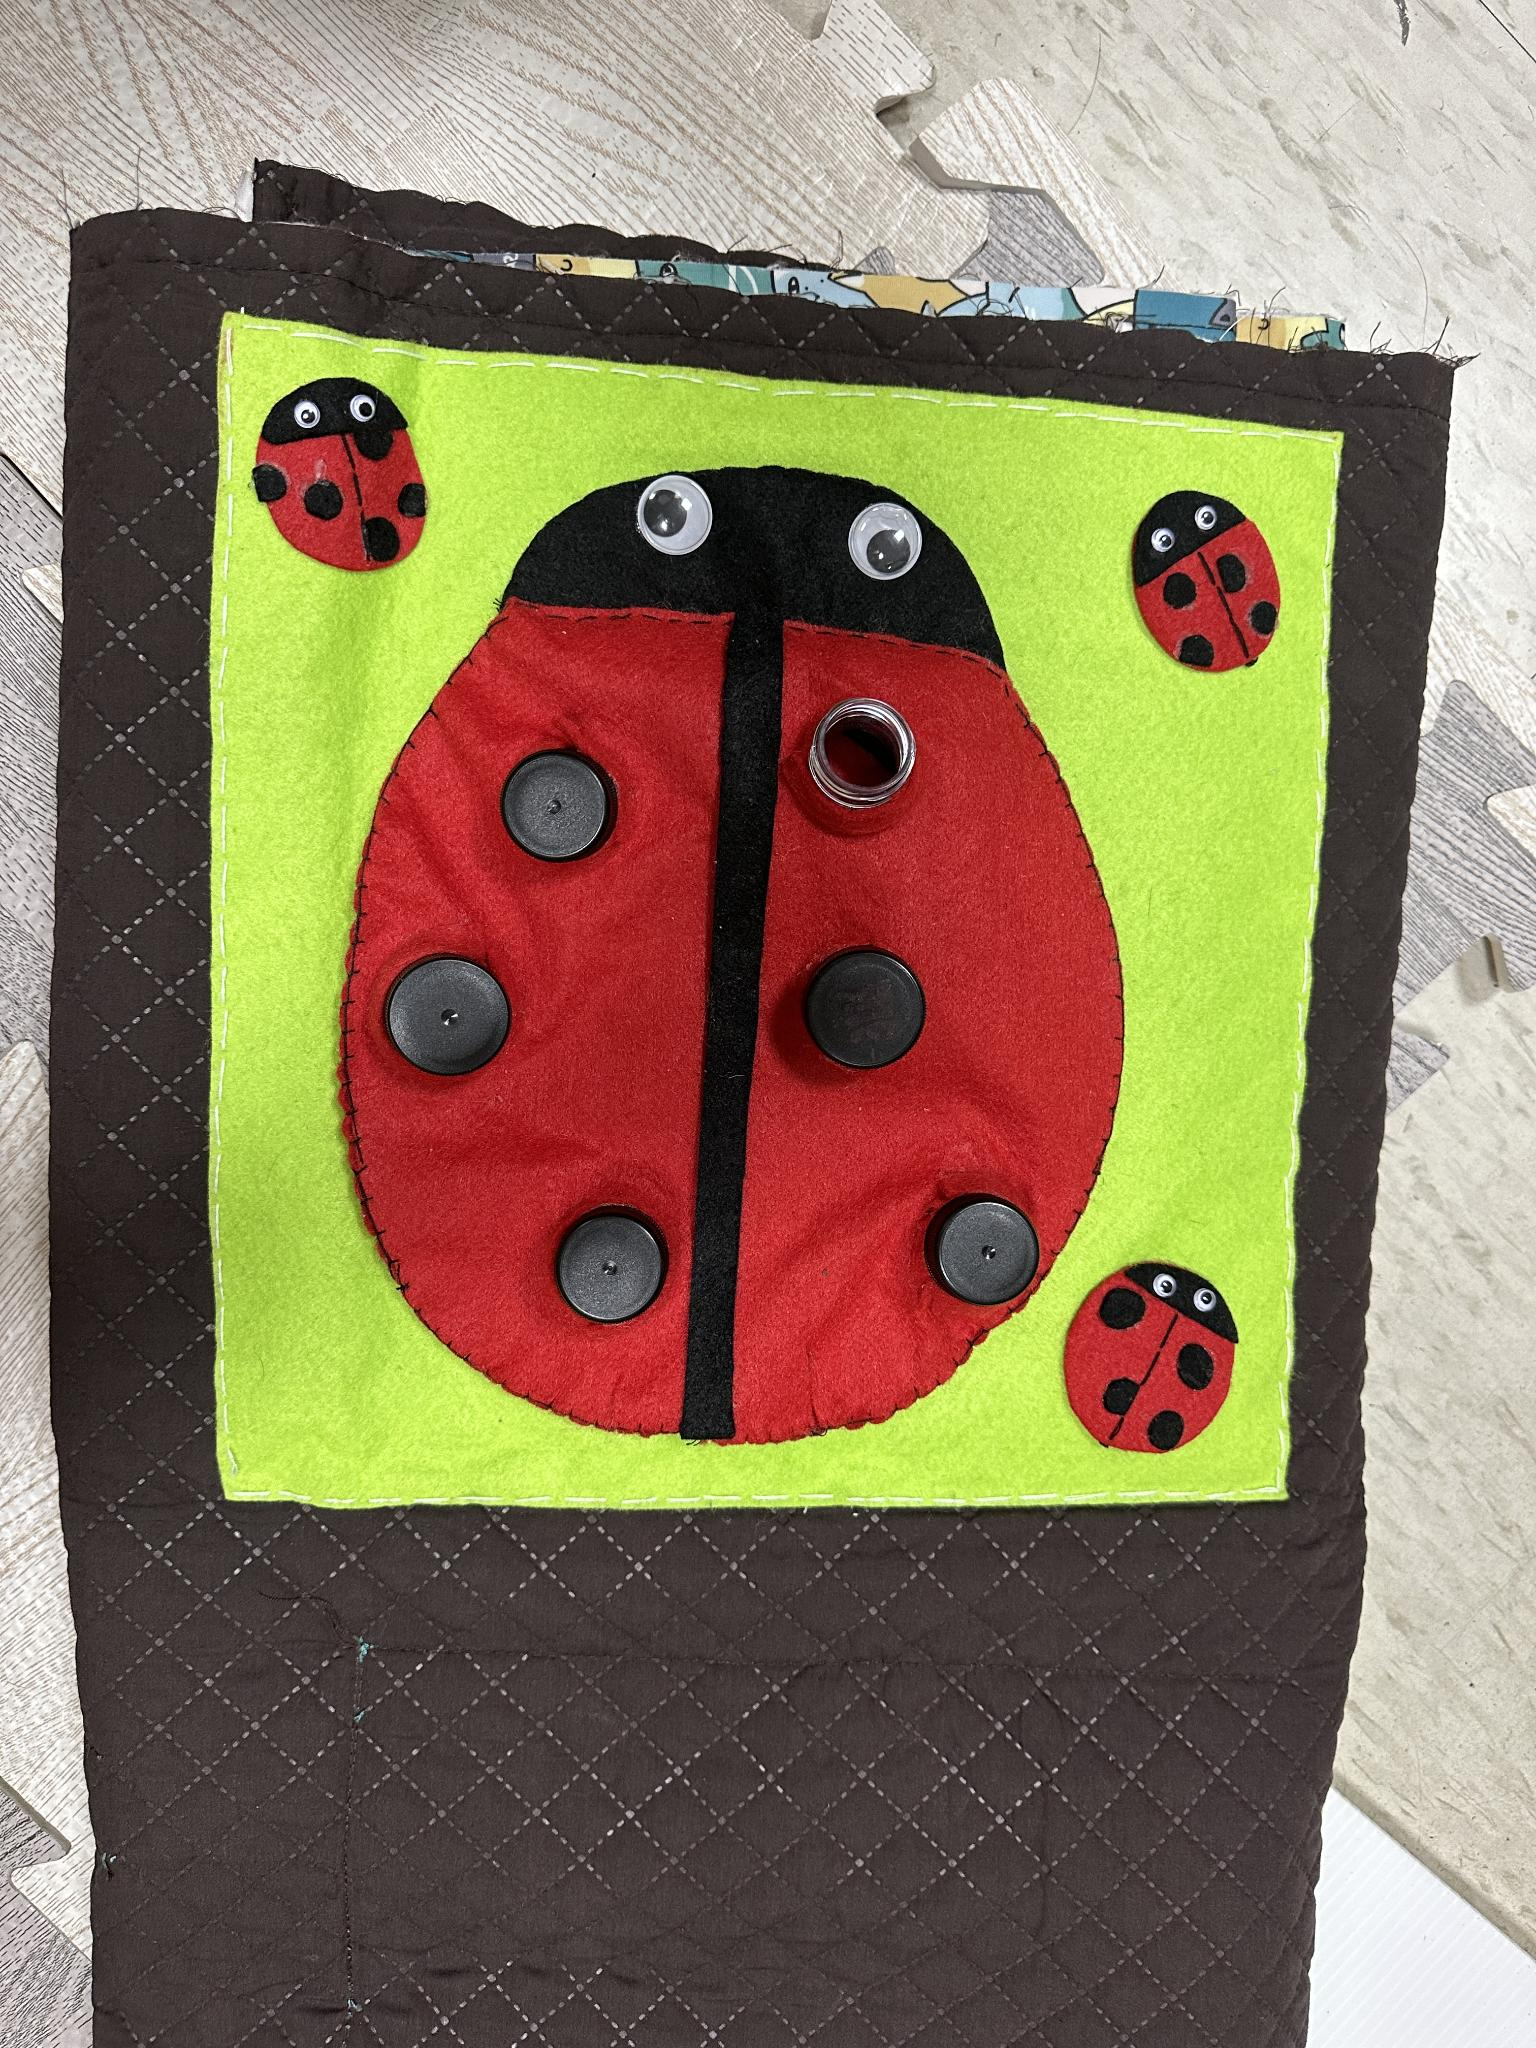cap_ok: (365, 939, 550, 1087), (528, 1177, 687, 1338), (482, 719, 636, 876), (795, 922, 949, 1074), (907, 1179, 1055, 1314)
